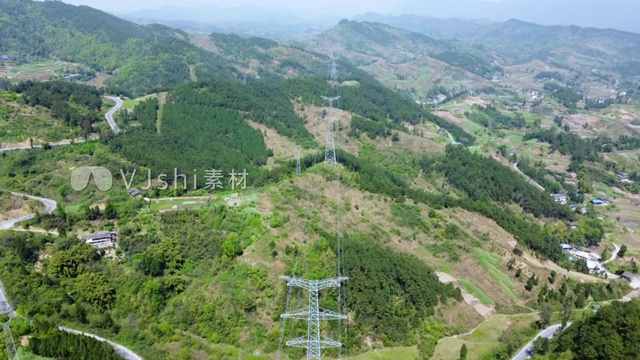tower_foot: (276, 268, 356, 360)
tower_head: (281, 272, 352, 292)
